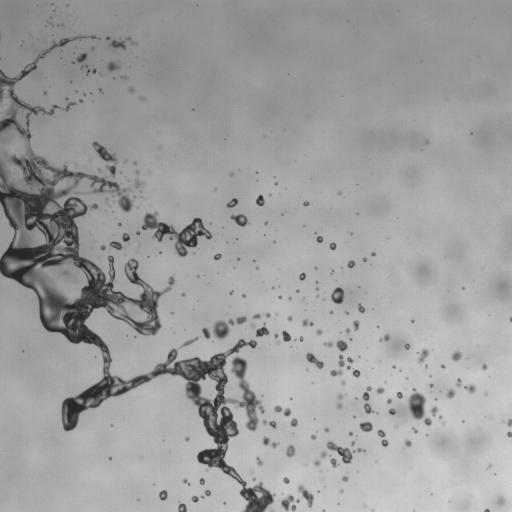droplet: (141, 212, 212, 257), (330, 354, 354, 376), (314, 451, 339, 467), (279, 494, 299, 511), (331, 286, 344, 303), (230, 214, 247, 226), (417, 348, 429, 363), (256, 324, 269, 337), (107, 61, 120, 71), (75, 53, 87, 63), (109, 241, 122, 250), (359, 422, 372, 431), (282, 330, 291, 342), (286, 445, 295, 457), (451, 351, 461, 361), (226, 198, 237, 207), (464, 384, 475, 393), (446, 388, 455, 398), (256, 195, 264, 205), (430, 406, 438, 416), (159, 490, 167, 500), (302, 319, 313, 326), (379, 334, 390, 341), (134, 179, 142, 188), (496, 497, 504, 506), (178, 502, 186, 511), (347, 260, 355, 268), (122, 233, 129, 242), (358, 304, 365, 313), (375, 387, 384, 394), (353, 320, 359, 330), (329, 242, 336, 250), (213, 253, 221, 260), (352, 369, 359, 377), (290, 418, 297, 426), (404, 439, 411, 447), (256, 457, 263, 465), (182, 478, 190, 485), (252, 313, 261, 319), (455, 378, 461, 387), (316, 235, 323, 242), (299, 272, 305, 280), (316, 329, 323, 335), (506, 418, 511, 426), (404, 343, 410, 349), (336, 403, 342, 409), (389, 408, 395, 414), (283, 477, 289, 483), (337, 394, 344, 399), (264, 312, 270, 317), (482, 364, 487, 370), (340, 380, 346, 385), (397, 392, 402, 398), (412, 427, 417, 433), (342, 476, 348, 481), (199, 478, 204, 484), (507, 431, 511, 438), (128, 87, 133, 92), (100, 245, 105, 250), (287, 316, 292, 321), (250, 323, 255, 328), (348, 431, 353, 436), (311, 434, 316, 439), (345, 328, 349, 334), (303, 201, 308, 205), (387, 398, 391, 403), (185, 436, 189, 441), (350, 441, 354, 446), (484, 508, 490, 511), (140, 96, 144, 100), (337, 191, 341, 195), (181, 292, 185, 296), (441, 364, 445, 368), (324, 427, 328, 431), (122, 76, 127, 79), (135, 170, 139, 173), (330, 269, 333, 273), (278, 295, 281, 299), (487, 465, 491, 468), (133, 162, 136, 165), (98, 169, 101, 172), (230, 172, 233, 175), (136, 231, 139, 234), (229, 291, 232, 294), (242, 294, 245, 297), (316, 294, 319, 297), (330, 311, 333, 314), (345, 311, 348, 314), (300, 337, 303, 340), (349, 337, 352, 340), (107, 36, 109, 39), (43, 92, 46, 94), (80, 99, 82, 102), (105, 199, 108, 201), (118, 223, 121, 225), (264, 222, 267, 224), (159, 251, 161, 254), (372, 252, 374, 255), (363, 258, 366, 260), (316, 287, 318, 290), (288, 297, 291, 299), (411, 320, 414, 322), (392, 366, 395, 368), (430, 384, 432, 387), (252, 478, 255, 480), (340, 490, 343, 492), (91, 47, 93, 49), (83, 65, 85, 67), (99, 89, 101, 91), (124, 160, 126, 162), (148, 171, 150, 173), (296, 290, 298, 292), (425, 365, 427, 367), (353, 415, 355, 417)
ligament: (0, 37, 274, 511), (202, 316, 246, 339), (92, 141, 117, 177), (326, 441, 365, 463), (408, 388, 431, 425), (362, 386, 376, 414), (297, 484, 313, 507), (110, 37, 135, 49), (306, 352, 323, 369), (323, 340, 347, 351), (192, 490, 210, 502), (377, 429, 388, 447), (274, 405, 291, 416), (262, 437, 278, 448), (262, 419, 276, 427), (64, 102, 75, 110), (439, 415, 445, 425), (274, 333, 279, 344), (87, 68, 96, 73), (90, 35, 97, 38), (510, 317, 511, 321), (371, 510, 374, 511)
